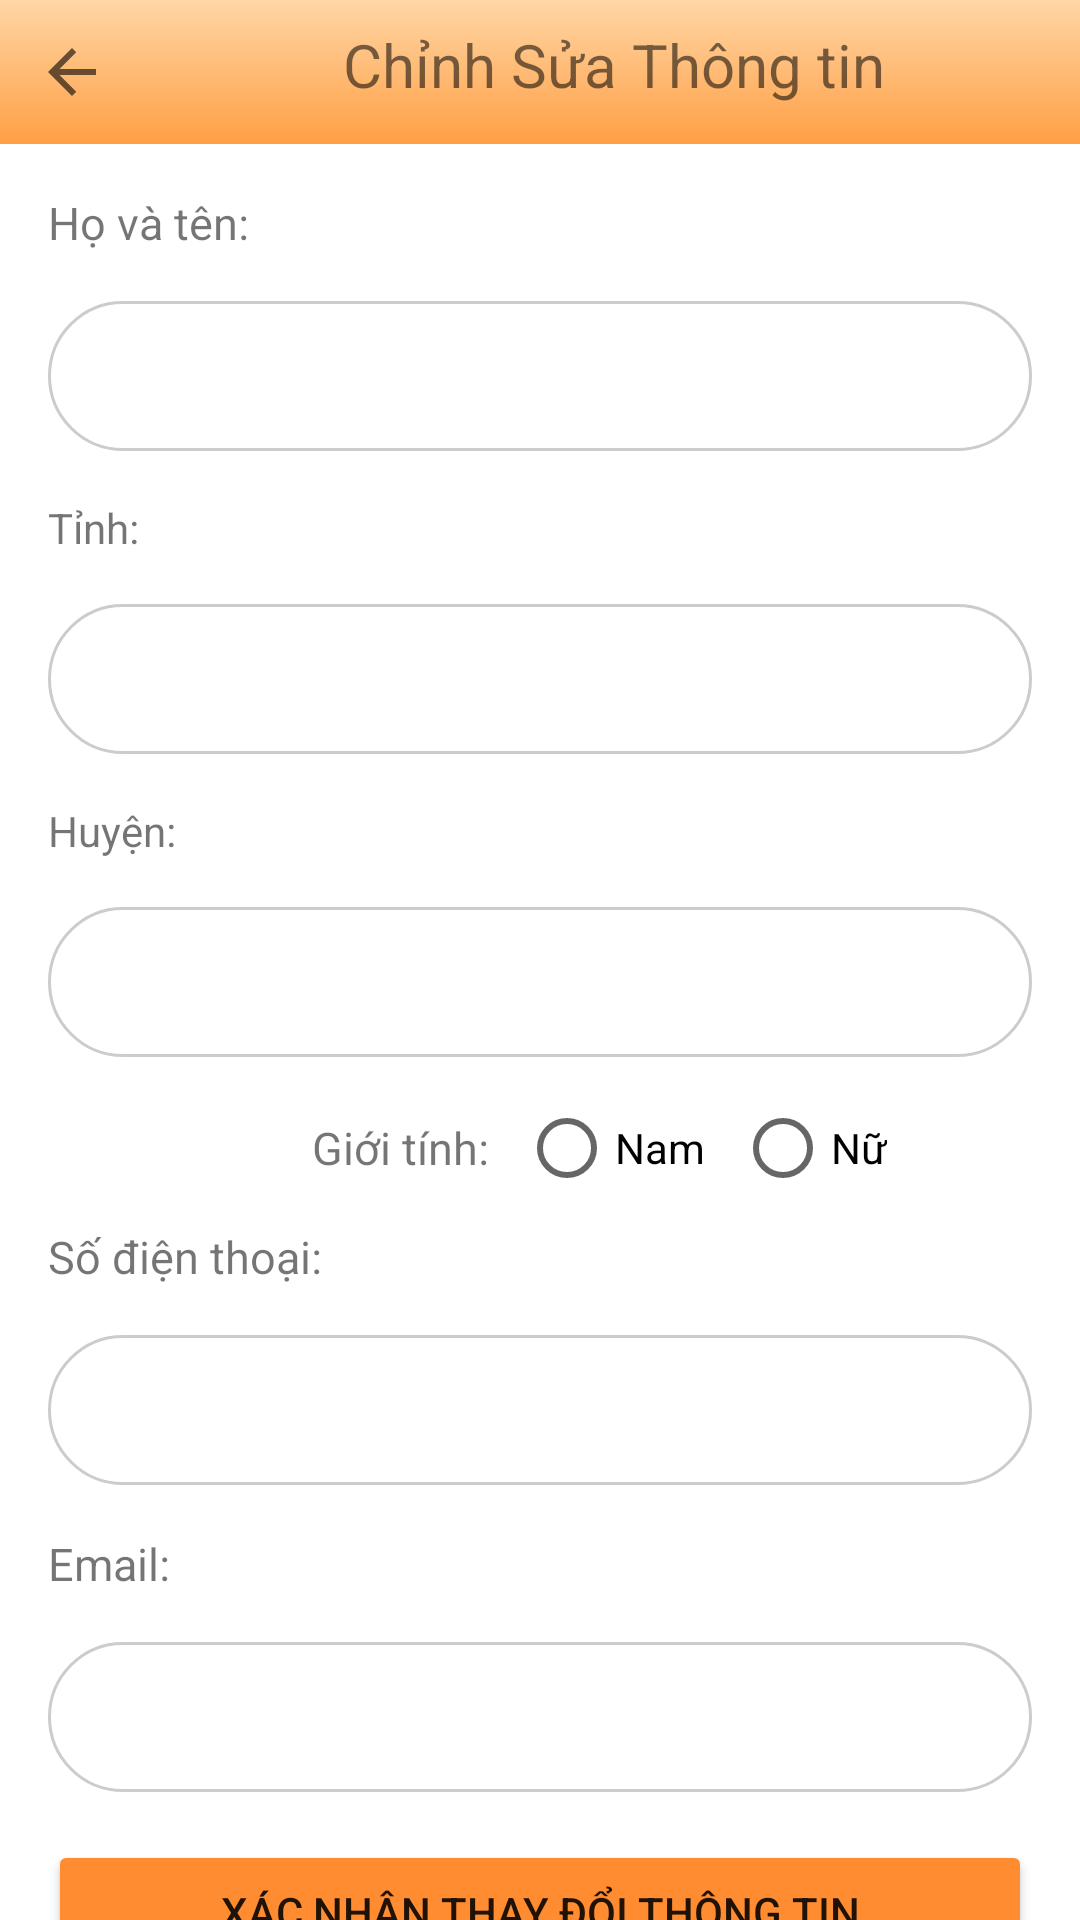

Point at icon controls on the screen. Image size 1080×1920, points as (x,y).
arrow back: (72,72)
